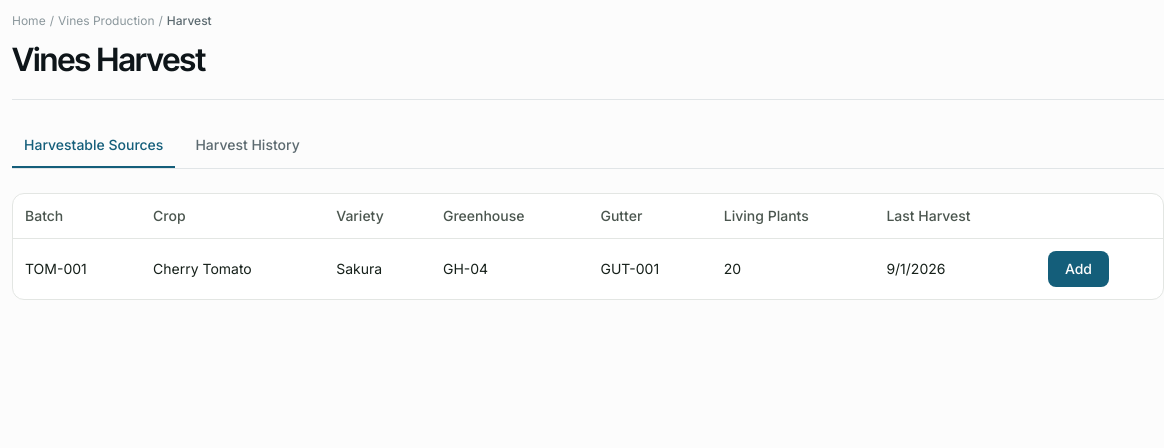
Test: VinesHarvestPage › Harvest History shows the underlying Grow Bag lineage for a Gutter-anchored source line
The image size is (1164, 448).
Expected: the text "GUT-001" is shown, [588, 238, 712, 299]
Click the tab "Harvest History" at (248, 146), box [183, 124, 312, 168]
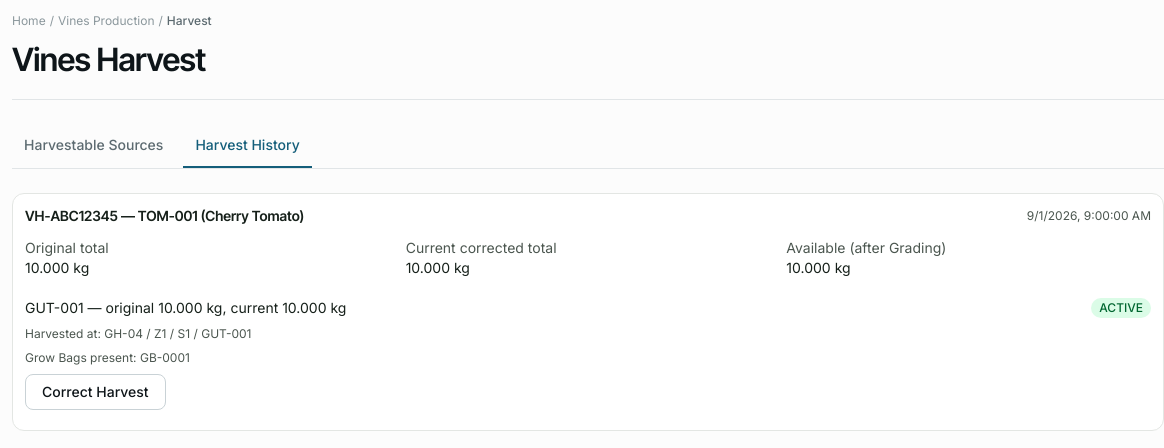
Expected: the text "VH-ABC12345 — TOM-001 (Cherry Tomato)" is shown, [25, 206, 304, 226]
Expected: the text "Grow Bags present: GB-0001" is shown, [25, 350, 190, 365]
